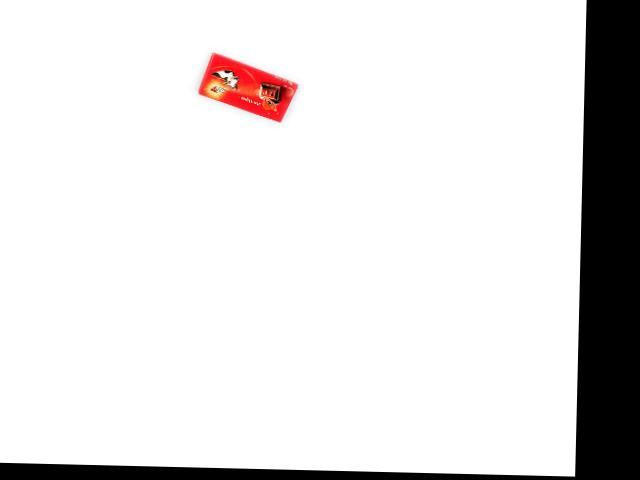chocolate: (199, 52, 300, 124)
